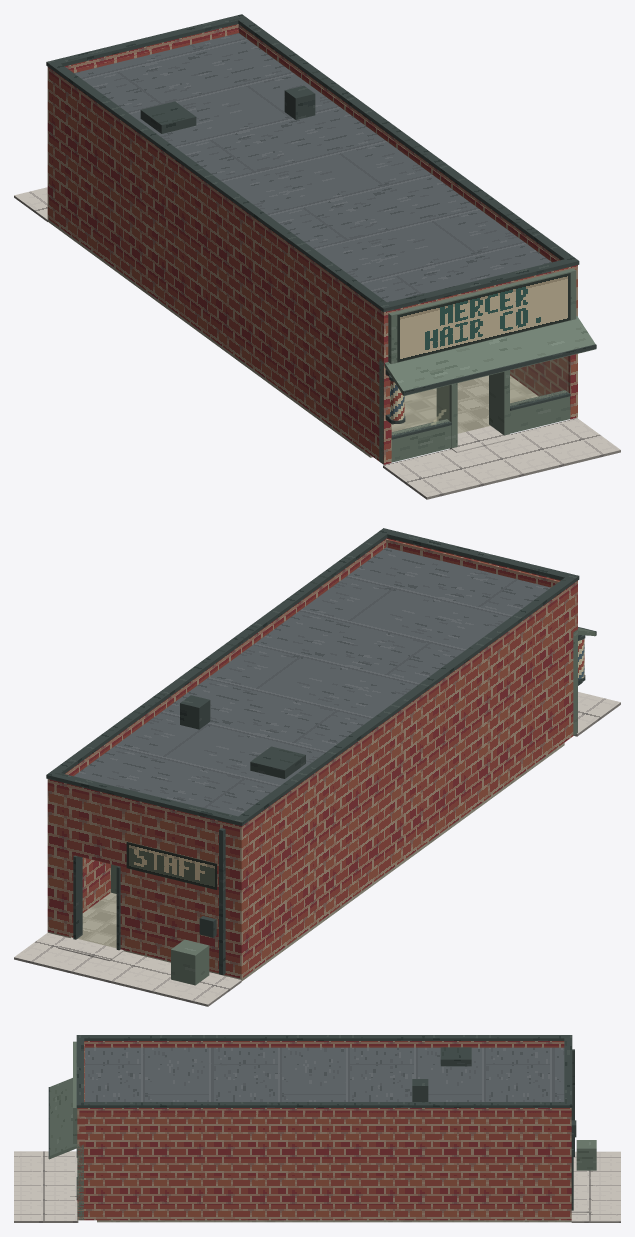
The model's file is barber-1980-far.glb.
3 renders of one model, top to bottom at view 1: azimuth 30°, elevation 25°; view 2: azimuth 150°, elevation 25°; view 3: azimuth 270°, elevation 25°, orthographic. The views are drawn at different scales.
Visible parts, largest first — view 1: shell, lot, sign_name, fixed_interior; view 2: shell, lot, fixed_interior, sign_staff; view 3: shell, lot, fixed_interior.
Part boxes in pixels (left/top/right/bottom): shell: left=46, top=14, right=596, bottom=464; lot: left=14, top=187, right=620, bottom=499; sign_name: left=397, top=273, right=570, bottom=362; fixed_interior: left=47, top=219, right=538, bottom=457; shell: left=46, top=528, right=596, bottom=978; lot: left=14, top=692, right=620, bottom=1006; fixed_interior: left=47, top=743, right=564, bottom=981; sign_staff: left=126, top=842, right=216, bottom=889; shell: left=48, top=1035, right=591, bottom=1220; lot: left=14, top=1140, right=620, bottom=1222; fixed_interior: left=97, top=1220, right=571, bottom=1222.
Size of what is drawn, in the model's own units: 6.05 by 4.99 by 22.1.
11 materials, 11 textured.
